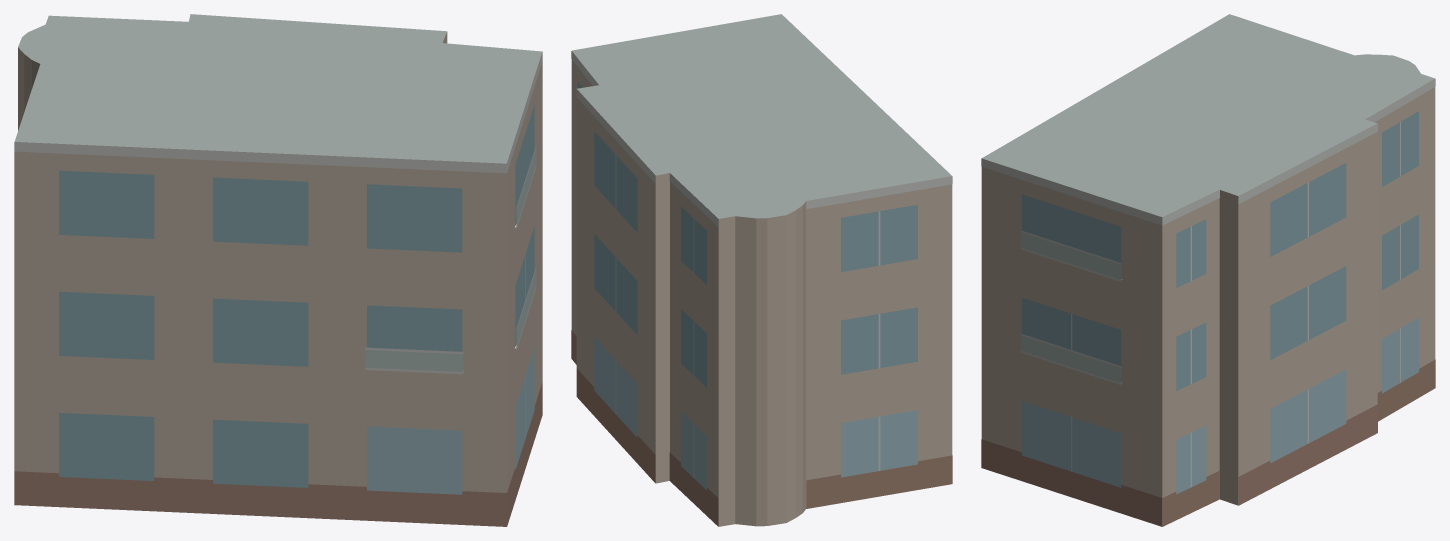
Rendered from survey-upis-32517067.glb.
3 views of the same model, side by side, from view 1: azimuth 30°, elevation 25°; view 2: azimuth 150°, elevation 25°; view 3: azimuth 270°, elevation 25° (orthographic). The views are drawn at different scales.
Visible parts, largest first — view 1: survey-upis-32517067.tmp; view 2: survey-upis-32517067.tmp; view 3: survey-upis-32517067.tmp.
Boxes of the visible parts, x1,y1,x2,y2 form: survey-upis-32517067.tmp: [14, 14, 542, 526]; survey-upis-32517067.tmp: [571, 14, 952, 526]; survey-upis-32517067.tmp: [981, 14, 1435, 526].
Size of the model in its own units: 12.89 by 9.15 by 12.17.
